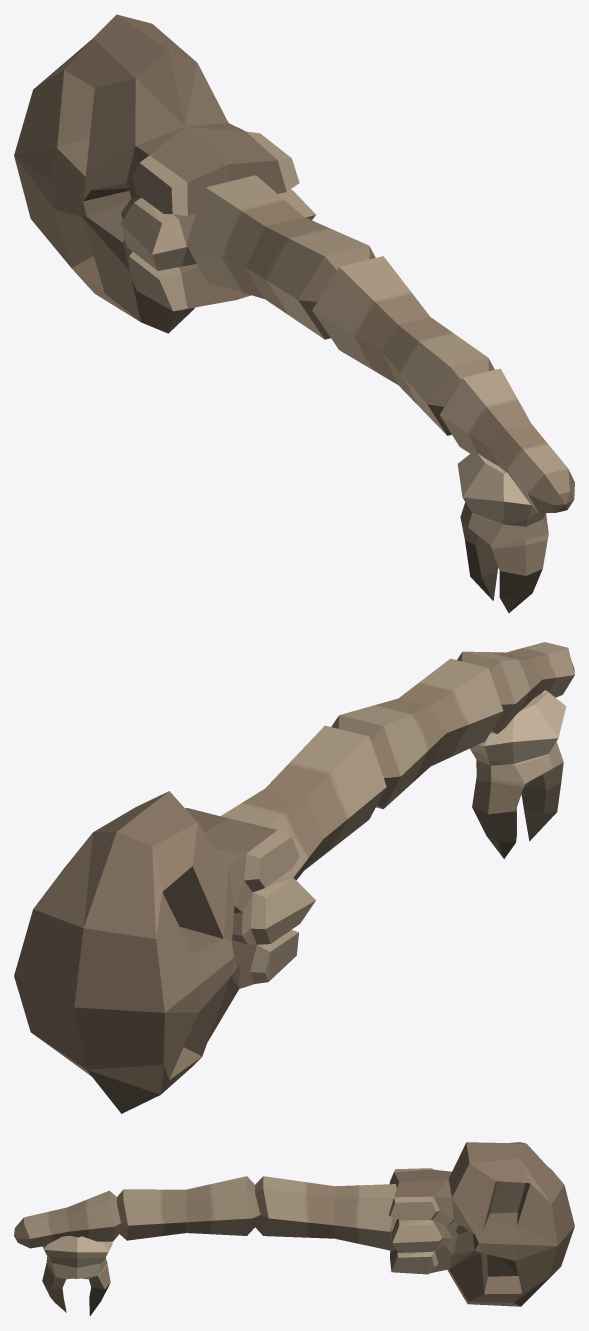
File: SM_Prop_Key_03.fbx
3 views of the same model, one above another, from view 1: azimuth 30°, elevation 25°; view 2: azimuth 150°, elevation 25°; view 3: azimuth 270°, elevation 25° (orthographic). The views are drawn at different scales.
Visible parts, largest first — view 1: SM_Prop_Key_03; view 2: SM_Prop_Key_03; view 3: SM_Prop_Key_03.
Part boxes in pixels (x1,y1,x2,y2): SM_Prop_Key_03: (14, 14, 574, 613); SM_Prop_Key_03: (14, 642, 574, 1113); SM_Prop_Key_03: (14, 1142, 574, 1315).
Bounding box in the file's own units: 5.77 × 10.33 × 29.84.
